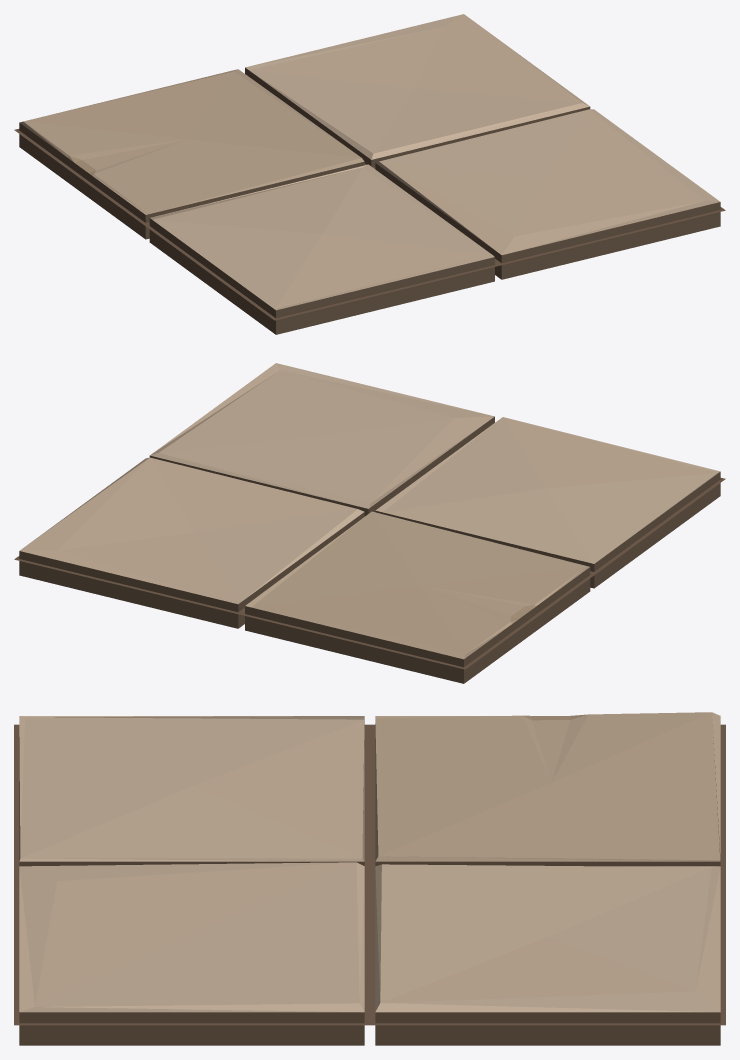
File: SM_Ground_PavingTile_Clean_01.fbx
3 renders of one model, top to bottom at view 1: azimuth 30°, elevation 25°; view 2: azimuth 150°, elevation 25°; view 3: azimuth 270°, elevation 25°, orthographic. The views are drawn at different scales.
Visible parts, largest first — view 1: SM_Ground_PavingTile_Clean_01; view 2: SM_Ground_PavingTile_Clean_01; view 3: SM_Ground_PavingTile_Clean_01.
Part boxes in pixels (bbox=[...]): SM_Ground_PavingTile_Clean_01: bbox=[14, 14, 725, 334]; SM_Ground_PavingTile_Clean_01: bbox=[14, 363, 725, 683]; SM_Ground_PavingTile_Clean_01: bbox=[14, 712, 725, 1045].
Bounding box in the file's own units: 1 × 0.0599 × 1.
Materials: 1 (1 with a texture image).
